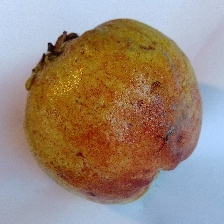guava: (13, 26, 184, 186)
